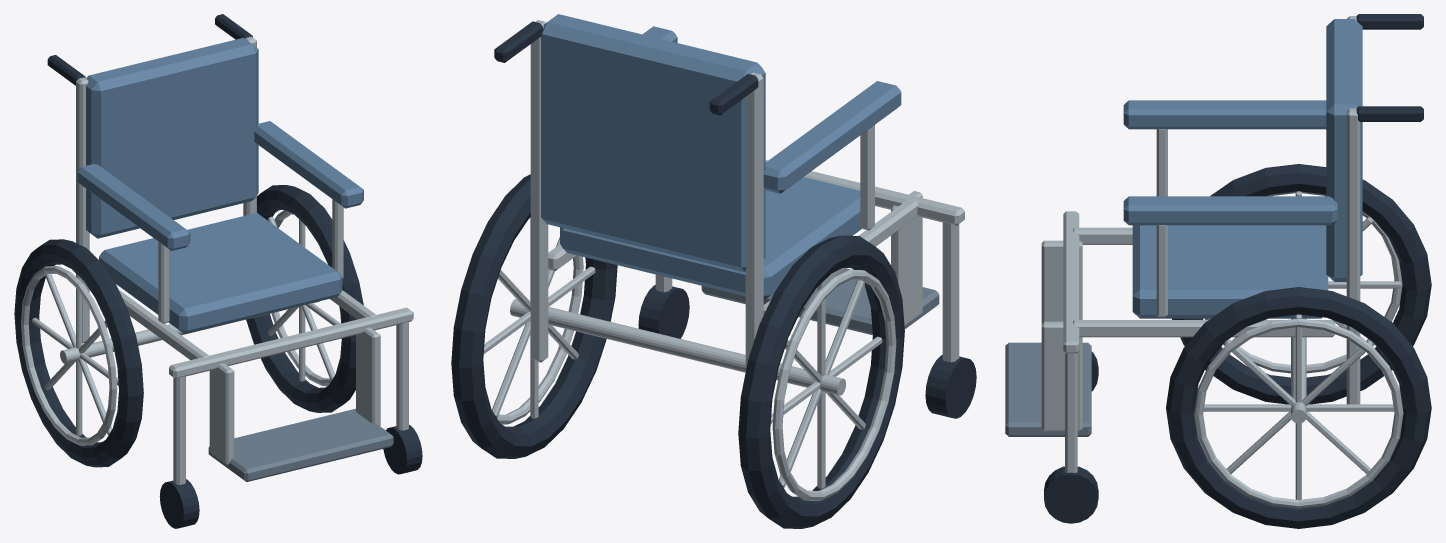
File: medical_11.glb
3 views of the same model, side by side, from view 1: azimuth 30°, elevation 25°; view 2: azimuth 150°, elevation 25°; view 3: azimuth 270°, elevation 25° (orthographic). The views are drawn at different scales.
Visible parts, largest first — view 1: Backrest, RearWheel (×2), Seat, Footrest, ArmRest (×2), FootSupport (×2), HandRim (×2), FrontAxle, Spoke (×5), FrontCaster (×2), FrontFork (×2), ChassisSide (×2) (+4 smaller); view 2: Backrest, RearWheel (×2), Seat, Spoke (×11), BackFrame (×2), HandRim (×2), ArmRest, RearAxle, FrontCaster (×2), Footrest, FootSupport, FrontFork (+4 smaller); view 3: RearWheel (×2), Seat, ArmRest (×2), HandRim (×2), Backrest, Spoke (×5), FootSupport (×2), Footrest, ChassisSide (×2), BackFrame, FrontCaster, FrontAxle (+4 smaller).
Boxes of the visible parts, x1=… form: Backrest: x1=86, y1=37, x2=258, y2=238; RearWheel (×2): x1=14, y1=185, x2=363, y2=467; Seat: x1=99, y1=213, x2=342, y2=333; Footrest: x1=208, y1=408, x2=393, y2=481; ArmRest (×2): x1=77, y1=121, x2=363, y2=250; FootSupport (×2): x1=209, y1=327, x2=380, y2=465; HandRim (×2): x1=21, y1=210, x2=331, y2=445; FrontAxle: x1=169, y1=307, x2=413, y2=378; Spoke (×5): x1=32, y1=216, x2=334, y2=436; FrontCaster (×2): x1=159, y1=425, x2=422, y2=528; FrontFork (×2): x1=173, y1=322, x2=408, y2=484; ChassisSide (×2): x1=119, y1=290, x2=376, y2=360; Backrest: x1=541, y1=14, x2=765, y2=272; RearWheel (×2): x1=451, y1=174, x2=904, y2=528; Seat: x1=560, y1=177, x2=861, y2=300; Spoke (×11): x1=483, y1=218, x2=882, y2=488; BackFrame (×2): x1=530, y1=20, x2=763, y2=371; HandRim (×2): x1=497, y1=255, x2=896, y2=500; ArmRest: x1=763, y1=81, x2=901, y2=193; RearAxle: x1=510, y1=299, x2=845, y2=395; FrontCaster (×2): x1=638, y1=285, x2=976, y2=418; Footrest: x1=701, y1=268, x2=939, y2=335; FootSupport: x1=891, y1=191, x2=922, y2=325; FrontFork: x1=942, y1=205, x2=959, y2=362; RearWheel (×2): x1=1166, y1=164, x2=1431, y2=528; Seat: x1=1132, y1=225, x2=1328, y2=318; ArmRest (×2): x1=1123, y1=100, x2=1337, y2=225; HandRim (×2): x1=1194, y1=191, x2=1403, y2=508; Backrest: x1=1326, y1=19, x2=1362, y2=281; Spoke (×5): x1=1203, y1=314, x2=1393, y2=499; FootSupport (×2): x1=1041, y1=240, x2=1082, y2=431; Footrest: x1=1005, y1=342, x2=1091, y2=436; ChassisSide (×2): x1=1073, y1=227, x2=1335, y2=337; BackFrame: x1=1346, y1=108, x2=1360, y2=404; FrontCaster: x1=1044, y1=466, x2=1098, y2=523; FrontAxle: x1=1063, y1=211, x2=1079, y2=353.
Bounding box in the file's own units: 0.73 × 0.982 × 0.937.
